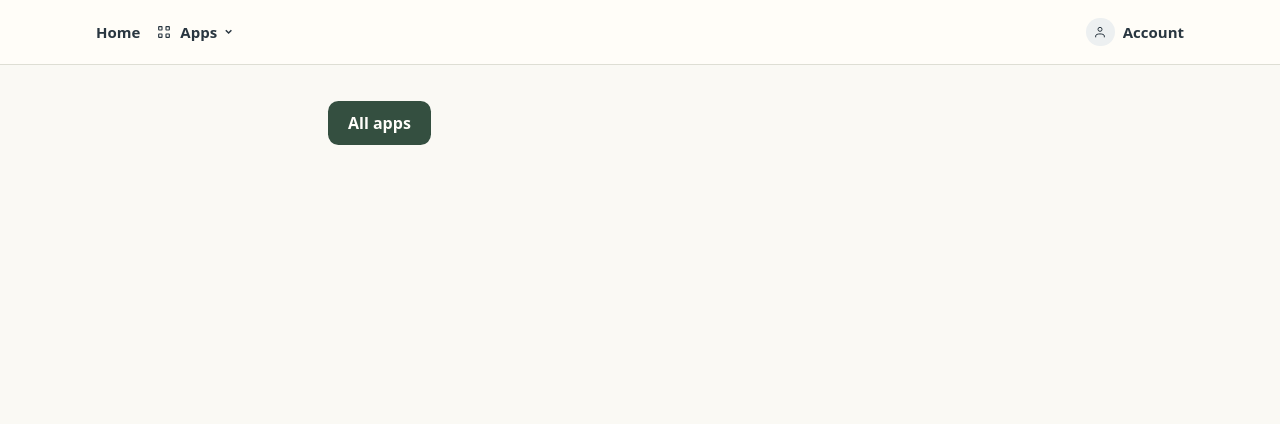
Test case: Profile updates sign-in and sign-out controls only after authoritative session changes
The image size is (1280, 424).
Later steps or results of the test are not shown.
Click the link "Account".
click(1135, 32)  # box x1=1086 y1=10 x2=1184 y2=54
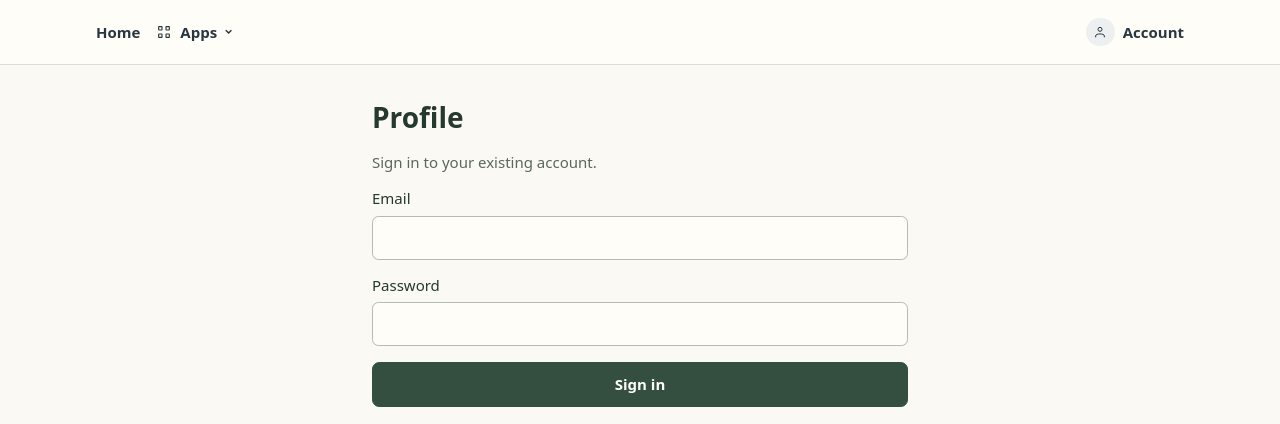
Type "fixture@example.invalid" into the field named "email".
click(640, 238); type("fixture@example.invalid")  # box x1=372 y1=216 x2=908 y2=260
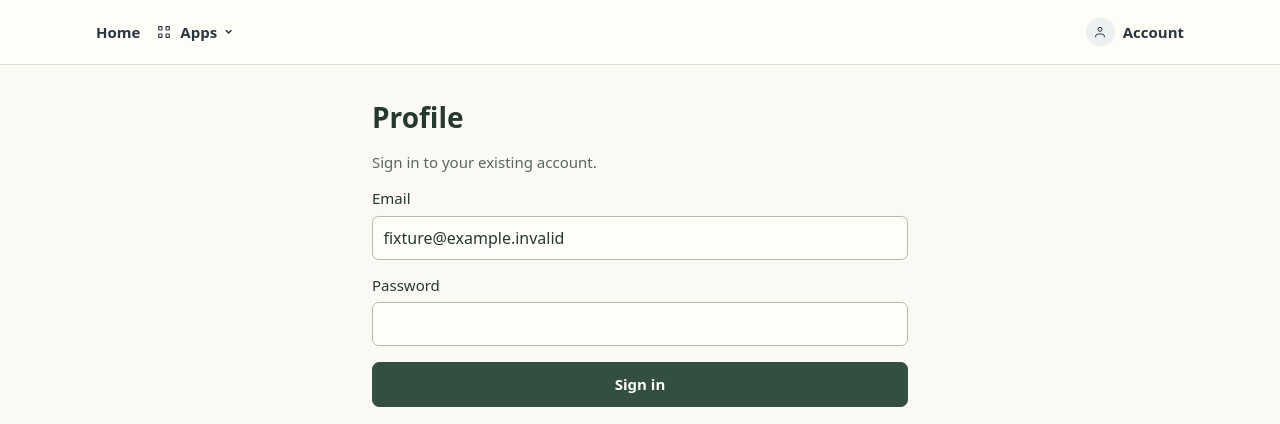
Type "synthetic-password" into the password field named "password".
click(640, 324); type("synthetic-password")  # box x1=372 y1=302 x2=908 y2=346
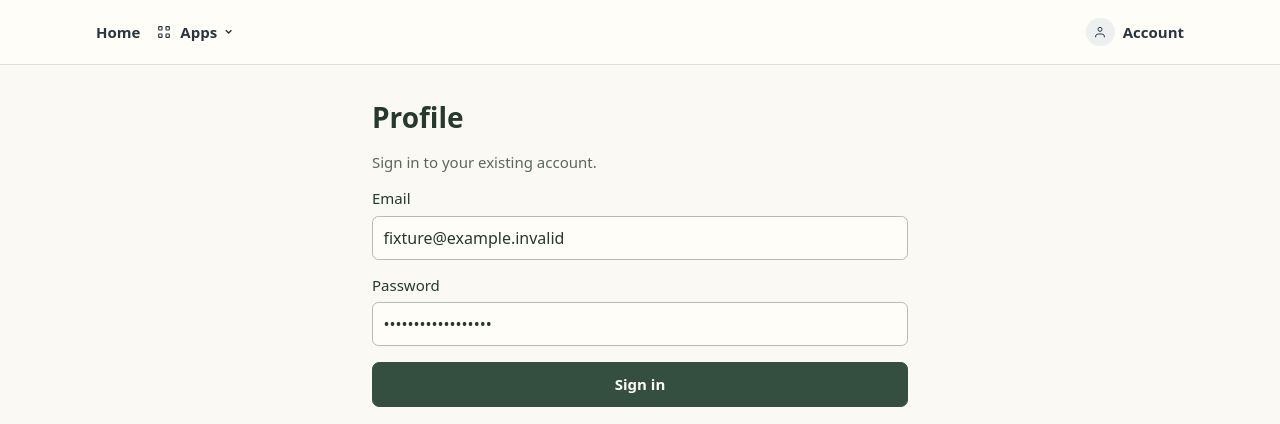
Submit the form, box x1=372 y1=151 x2=908 y2=407
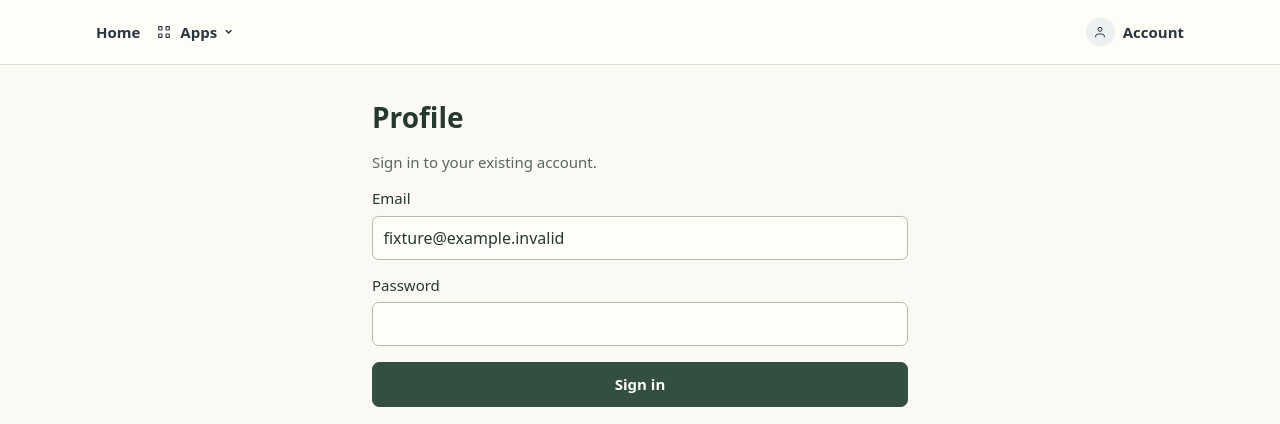
Result: the form is shown at x1=372 y1=151 x2=908 y2=407
Result: the password field named "password" is empty at x1=372 y1=302 x2=908 y2=346
